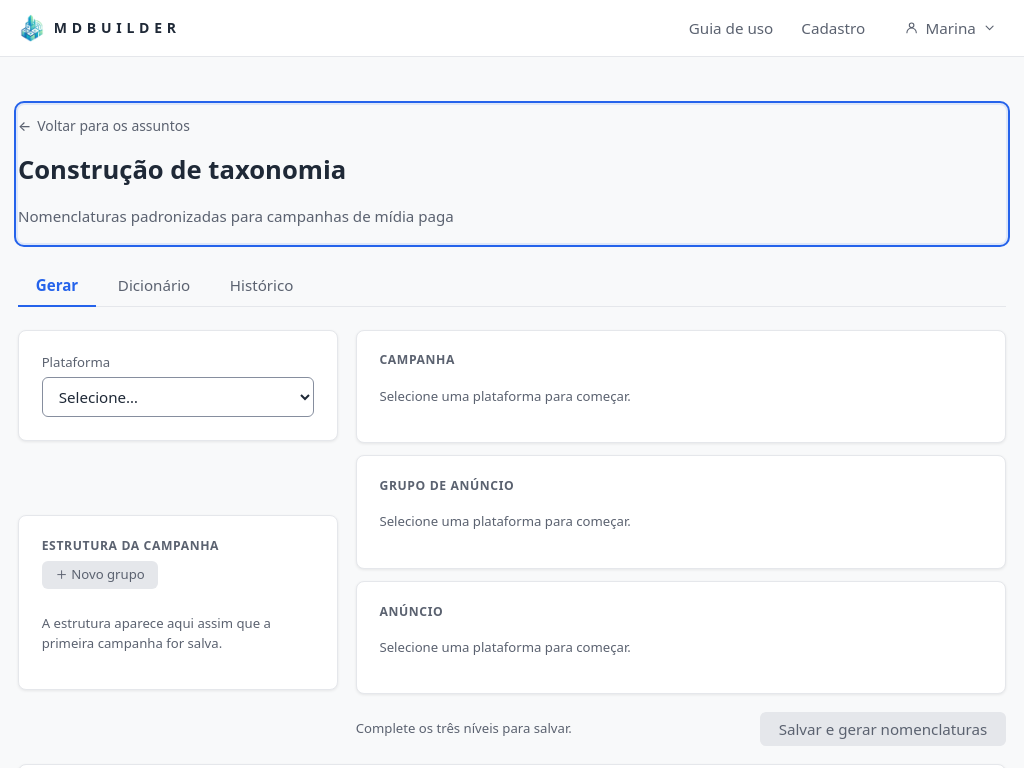
Test: sessão expirada no meio de um formulário › abre o diálogo por cima e mantém o formulário intacto
Select "Meta (METAA)" in the dropdown labelled "Plataforma": (178, 397) [42,377,314,417]
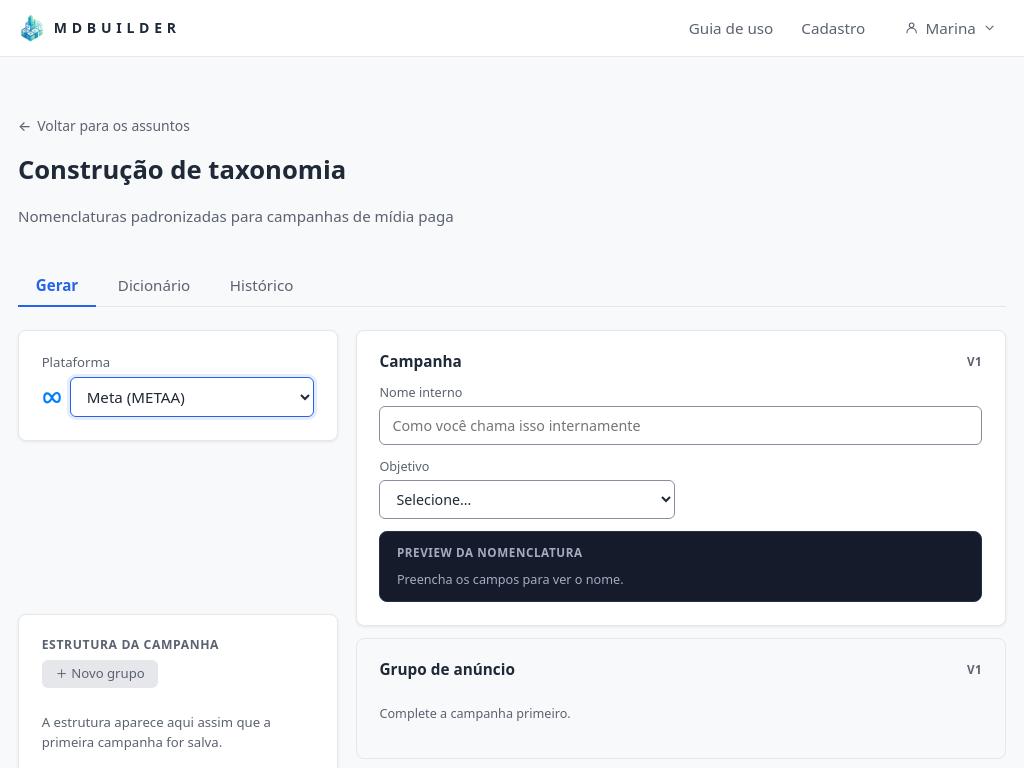
In the field labelled "Nome interno": (681, 426) [380,406,982,445], type "Black Friday 2026"
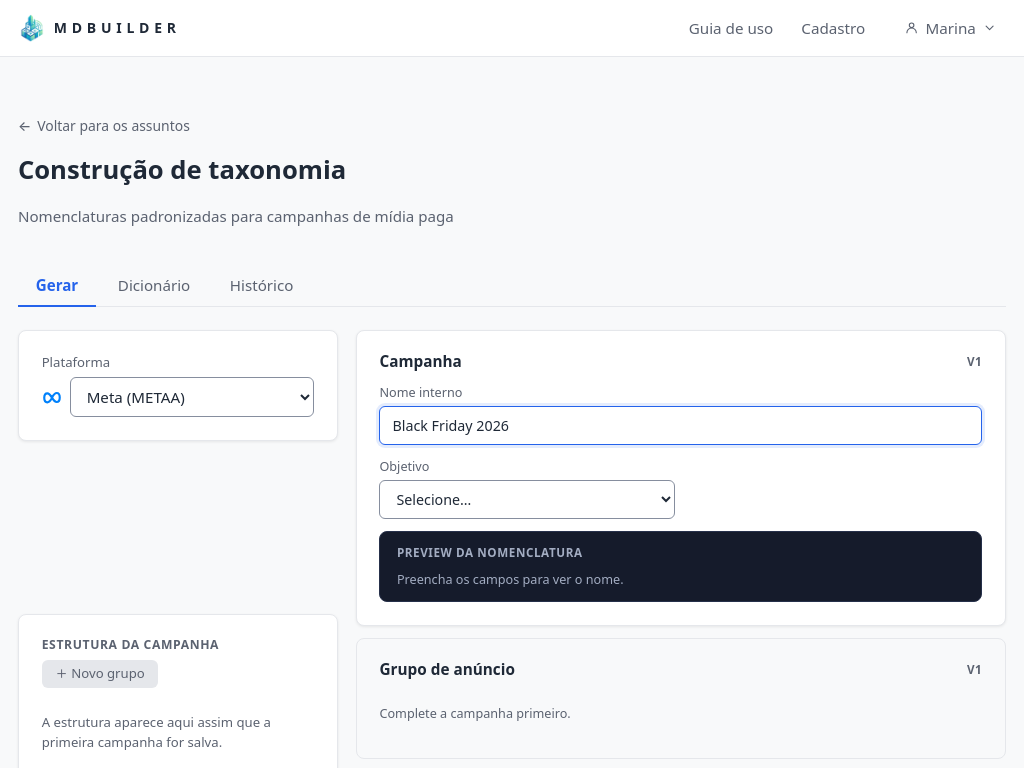
Select "Conversão → CV" in the dropdown labelled "Objetivo": (527, 500) [380,480,675,519]
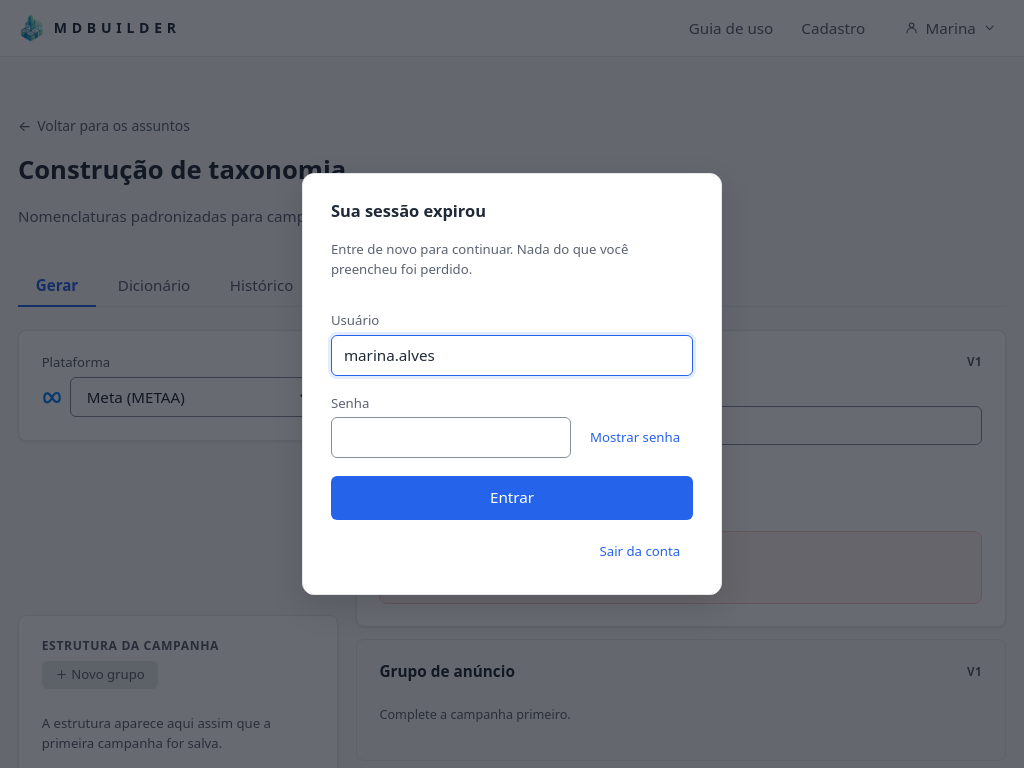
Check: the heading "Sua sessão expirou" is shown, box [331,199,486,222]
Check: the field labelled "Usuário" holds "marina.alves", box [331,335,693,376]
